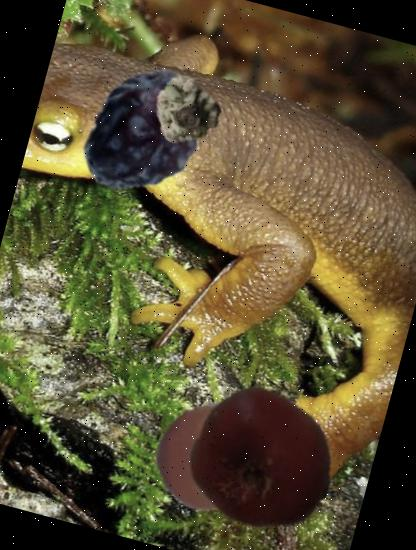Cauliflower: (146, 65, 230, 150)
Dates: (64, 49, 229, 214)
Nectarine: (176, 372, 350, 546)
Tangelo: (140, 374, 298, 532)
